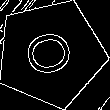O_E: (21, 27, 81, 80)
